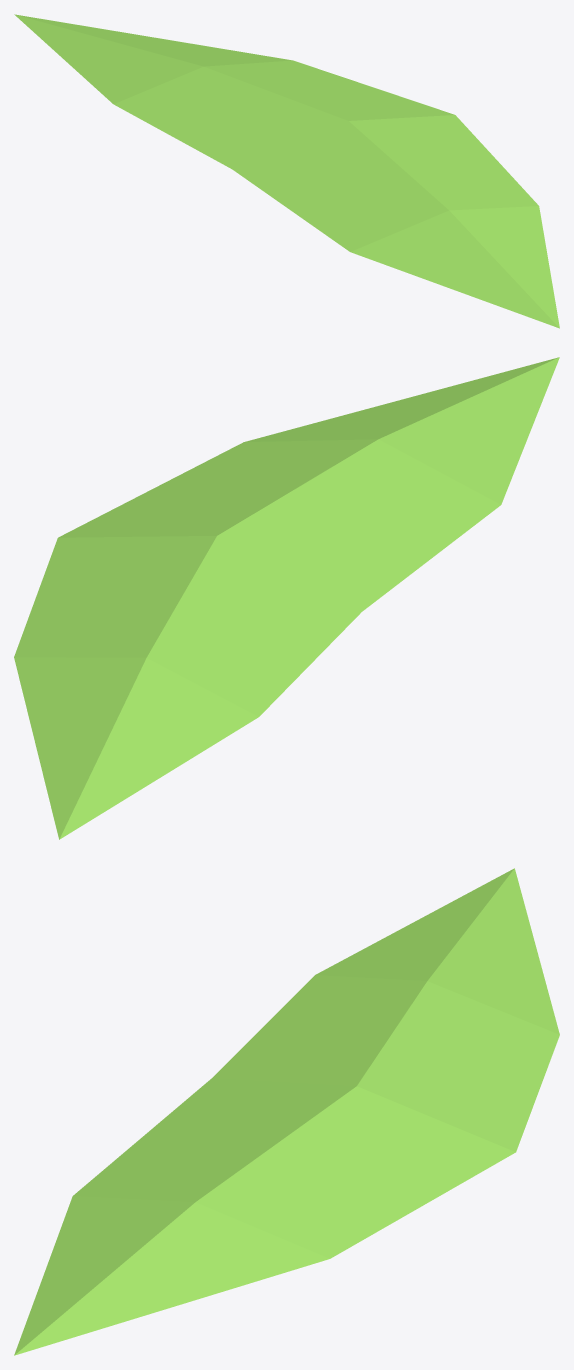
The model's file is Palm_Leave_OneSided_03.fbx.
3 views of the same model, one above another, from view 1: azimuth 30°, elevation 25°; view 2: azimuth 150°, elevation 25°; view 3: azimuth 330°, elevation 25° (orthographic). The views are drawn at different scales.
Visible parts, largest first — view 1: Palm_Leave_OneSided_03; view 2: Palm_Leave_OneSided_03; view 3: Palm_Leave_OneSided_03.
Part boxes in pixels (x1,y1,x2,y2): Palm_Leave_OneSided_03: (14, 14, 559, 328); Palm_Leave_OneSided_03: (14, 357, 559, 839); Palm_Leave_OneSided_03: (14, 868, 559, 1355).
Size of the model in its own units: 88.19 by 11.47 by 285.
